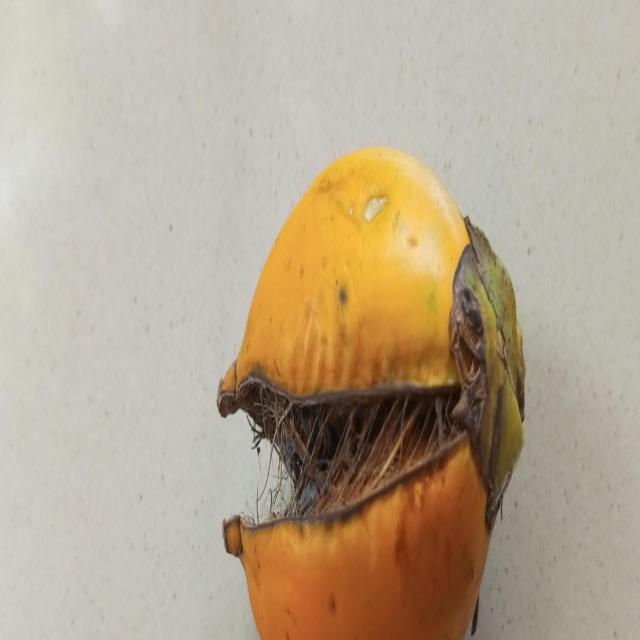damaged: (218, 147, 527, 640)
